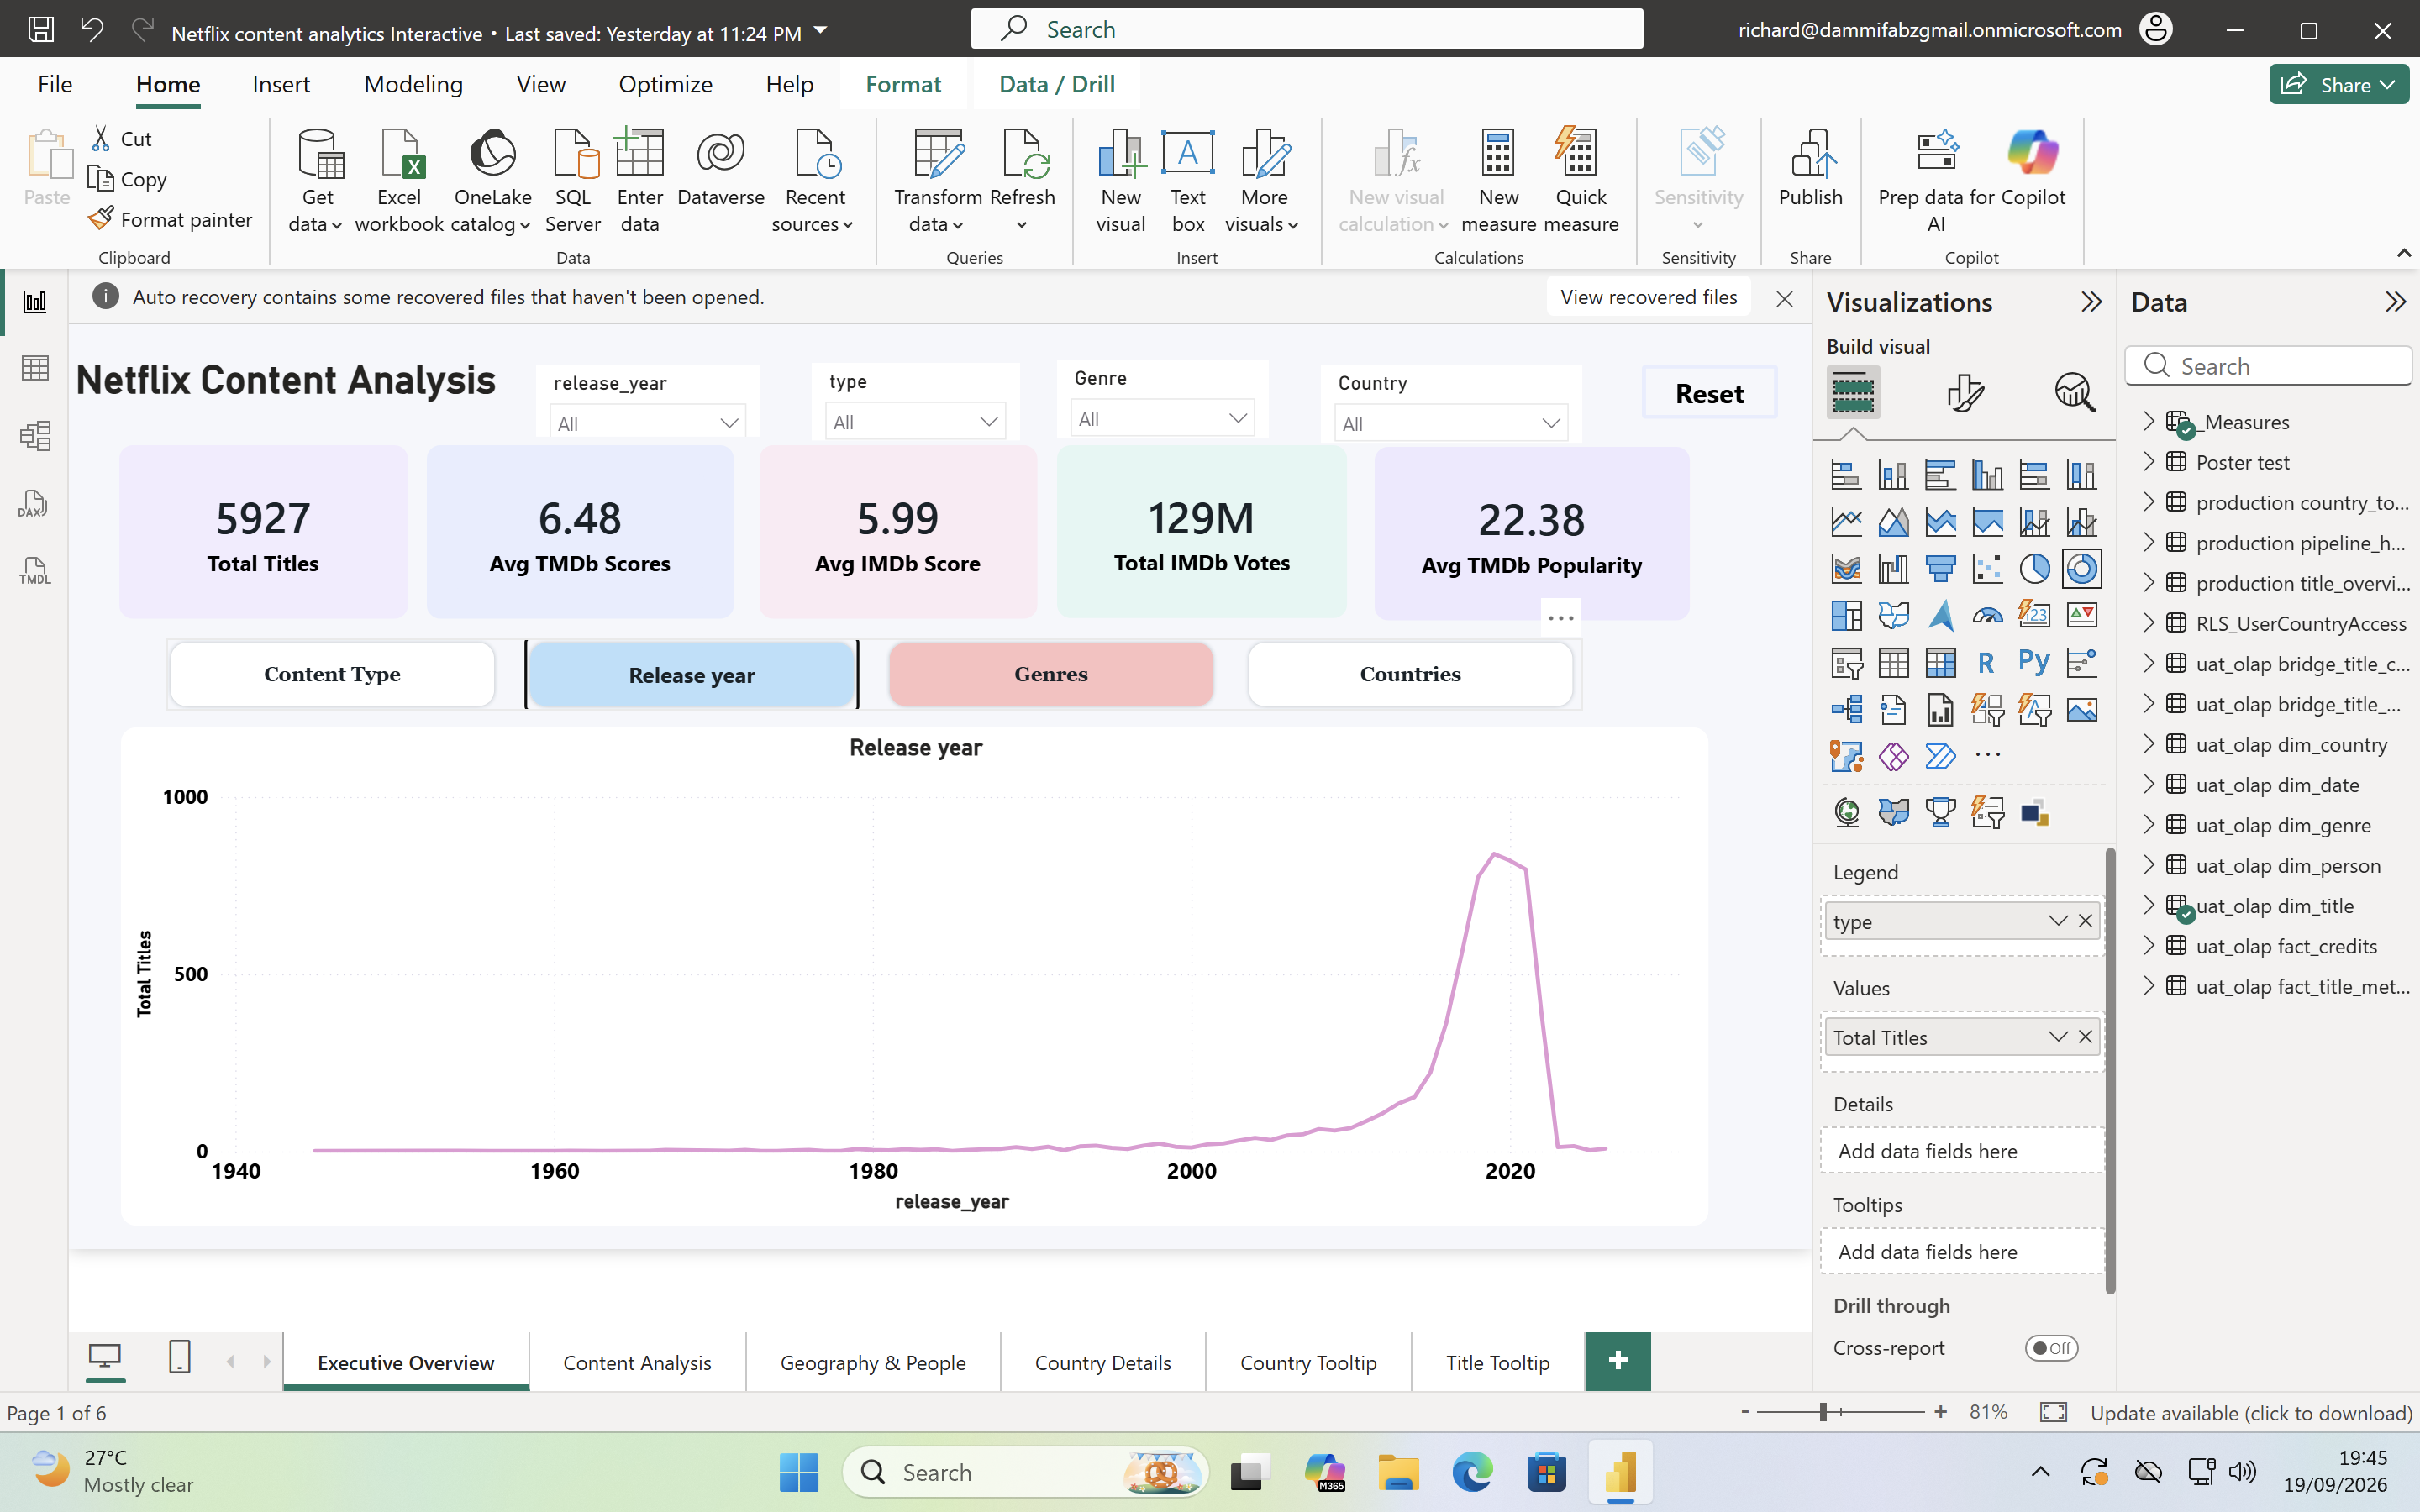

The page's visual inventory and layout, read from the dashboard file:
{"tool":"powerbi","page":{"name":"Executive Overview","canvas":[1280,720],"ordinal":0},"visuals":[{"type":"cardVisual","fields":{"Data":["_Measures.Average IMDb Score"]},"box":[507.8,129.4,203.9,127.5],"z":0},{"type":"cardVisual","fields":{"Data":["_Measures.Average TMDb Scores"]},"box":[262.7,129.4,225.5,127.5],"z":1000},{"type":"cardVisual","fields":{"Data":["_Measures.Averagee TMDb Popularity"]},"box":[959.5,130.8,231.4,127.5],"z":2000},{"type":"cardVisual","fields":{"Data":["_Measures.Total IMDb Votes"]},"box":[725.4,130,213.1,126.9],"z":3000},{"type":"cardVisual","fields":{"Data":["_Measures.Total Titles"]},"box":[37.3,129.4,211.8,127.5],"z":4000},{"type":"barChart","title":"Countries","fields":{"Category":["uat_olap dim_country.country_name"],"Y":["_Measures.Titile by Country"]},"box":[37.9,337.5,1166.2,364.1],"z":8000},{"type":"textbox","box":[0,58.8,390.2,58.8],"z":9000},{"type":"slicer","fields":{"Values":["uat_olap dim_title.release_year"]},"box":[343.1,70.6,164.7,52.9],"z":10000},{"type":"slicer","fields":{"Values":["uat_olap dim_title.type"]},"box":[545.1,68.6,152.9,56.9],"z":11000},{"type":"slicer","title":"hh","fields":{"Values":["uat_olap dim_genre.name"]},"box":[725.5,66.7,155.7,57.4],"z":12000},{"type":"slicer","fields":{"Values":["uat_olap dim_country.country_name"]},"box":[919.6,70.6,191.9,57.4],"z":13000},{"type":"actionButton","box":[1154.9,70.6,100,40],"z":14000},{"type":"bookmarkNavigator","box":[70.4,271.6,1039.9,53],"z":15000}]}

Visuals, with their boxes on the page's 1280x720 design canvas (x1, y1, x2, y2). These are canvas units, not pixel positions in the 2420x1512 screenshot, which may show the page scaled, cropped or inside an application window:
cardVisual - _Measures.Average IMDb Score: l=508, t=129, r=712, b=257
cardVisual - _Measures.Average TMDb Scores: l=263, t=129, r=488, b=257
cardVisual - _Measures.Averagee TMDb Popularity: l=960, t=131, r=1191, b=258
cardVisual - _Measures.Total IMDb Votes: l=725, t=130, r=938, b=257
cardVisual - _Measures.Total Titles: l=37, t=129, r=249, b=257
"Countries" barChart: l=38, t=338, r=1204, b=702
textbox: l=0, t=59, r=390, b=118
slicer - uat_olap dim_title.release_year: l=343, t=71, r=508, b=124
slicer - uat_olap dim_title.type: l=545, t=69, r=698, b=126
"hh" slicer: l=726, t=67, r=881, b=124
slicer - uat_olap dim_country.country_name: l=920, t=71, r=1112, b=128
actionButton: l=1155, t=71, r=1255, b=111
bookmarkNavigator: l=70, t=272, r=1110, b=325
